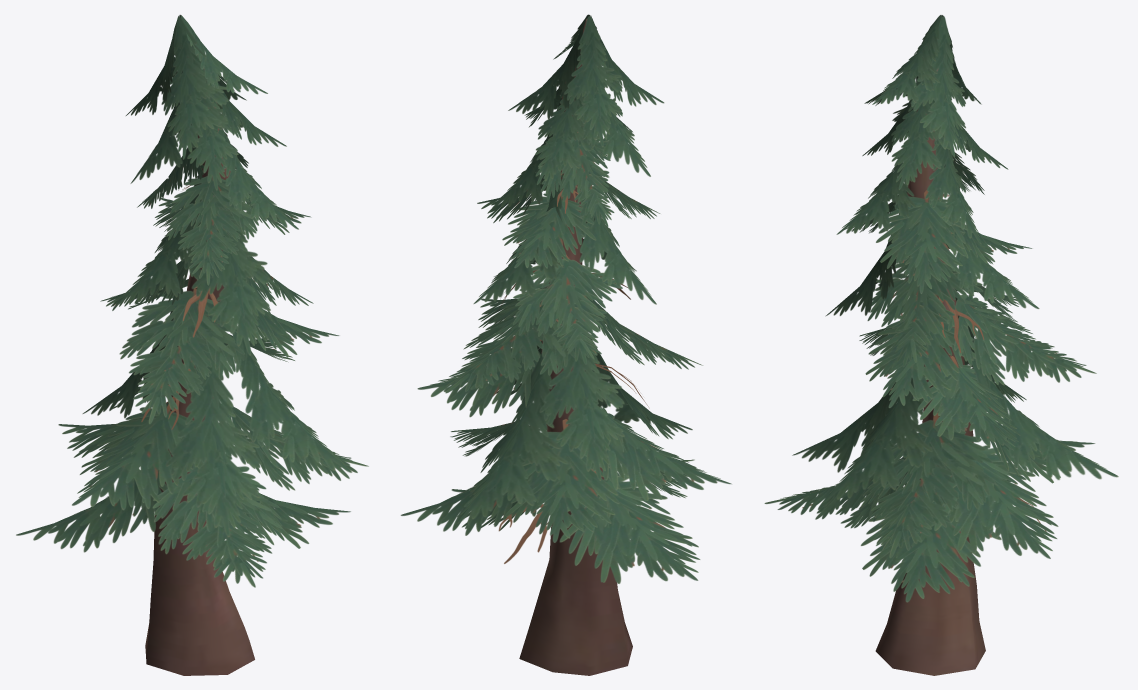
The model's file is pine-01.glb.
The picture shows the model from 3 angles, left to right: view 1: azimuth 30°, elevation 25°; view 2: azimuth 150°, elevation 25°; view 3: azimuth 270°, elevation 25°; orthographic projection. The views are drawn at different scales.
Visible parts, largest first — view 1: Pine_Leaves_01, Pine_Trunk_01; view 2: Pine_Leaves_01, Pine_Trunk_01; view 3: Pine_Leaves_01, Pine_Trunk_01.
Part boxes in pixels (x1=…): Pine_Leaves_01: x1=16, y1=14, x2=368, y2=587; Pine_Trunk_01: x1=145, y1=57, x2=254, y2=675; Pine_Leaves_01: x1=400, y1=14, x2=731, y2=583; Pine_Trunk_01: x1=519, y1=18, x2=632, y2=675; Pine_Leaves_01: x1=764, y1=15, x2=1118, y2=602; Pine_Trunk_01: x1=875, y1=26, x2=985, y2=675.
Size of the model in its own units: 1.98 by 4 by 2.08.
Materials: 2 (2 with a texture image).
